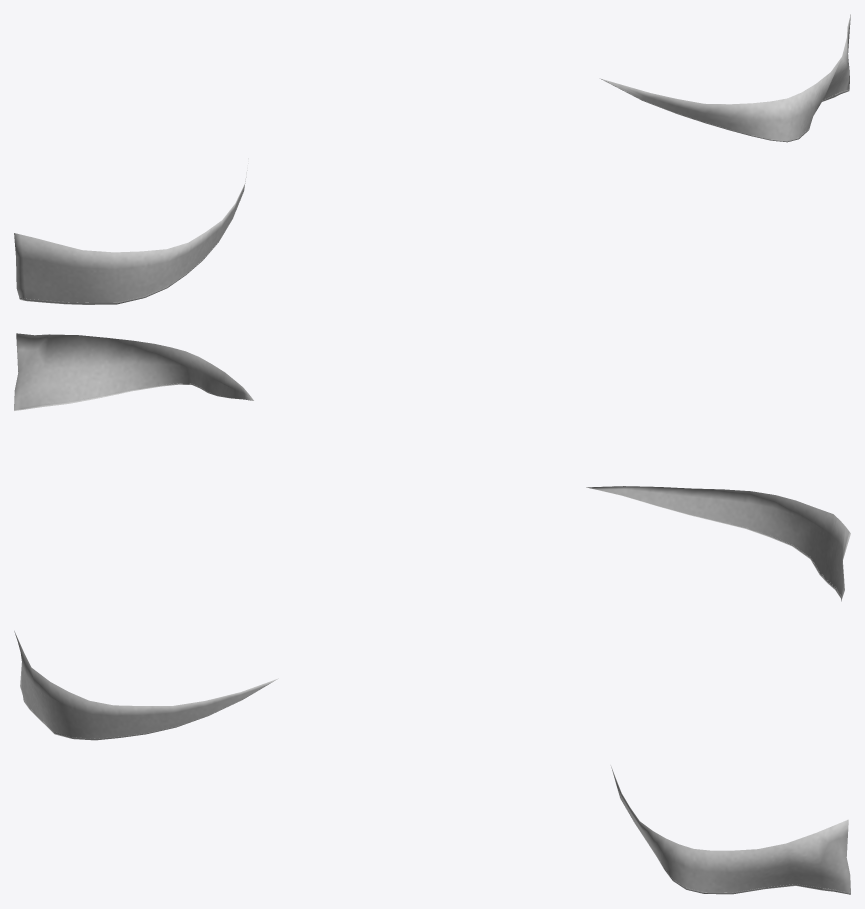
File: COP_Front.glb
3 views of the same model, one above another, from view 1: azimuth 30°, elevation 25°; view 2: azimuth 150°, elevation 25°; view 3: azimuth 330°, elevation 25° (orthographic). The views are drawn at different scales.
Parts seen in each view (by area): view 1: COP_Front1, Rope1; view 2: COP_Front1; view 3: COP_Front1, Rope1.
Boxes of the visible parts, x1,y1,x2,y2 form: COP_Front1: (14,14,850,304); Rope1: (19,79,849,303); COP_Front1: (14,333,850,601); COP_Front1: (14,631,850,894); Rope1: (23,699,850,893).
Bounding box in the file's own units: 0.8216 × 0.0728 × 0.1021.
Materials: 2 (2 with a texture image).
